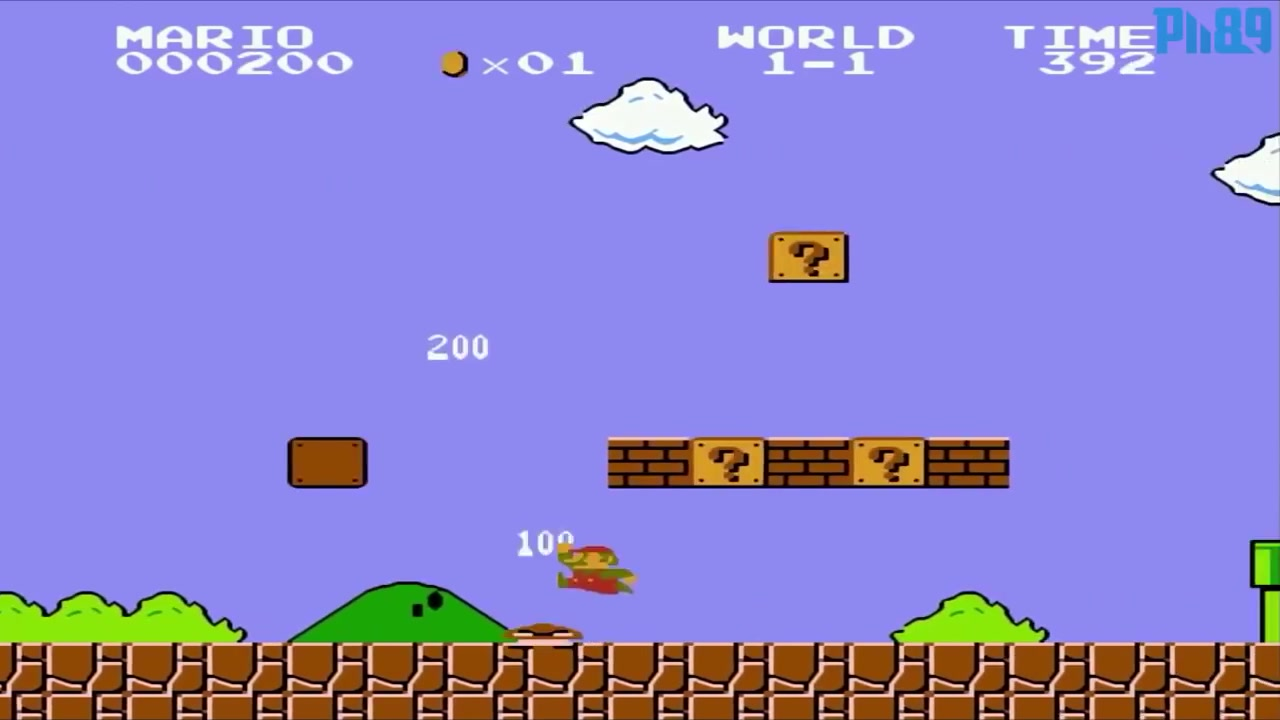mario: (547, 536, 640, 601)
